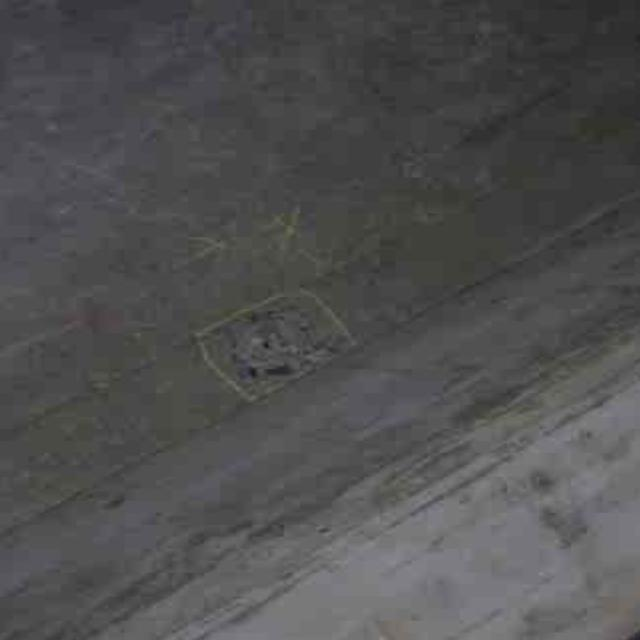spalling: (187, 284, 342, 396)
